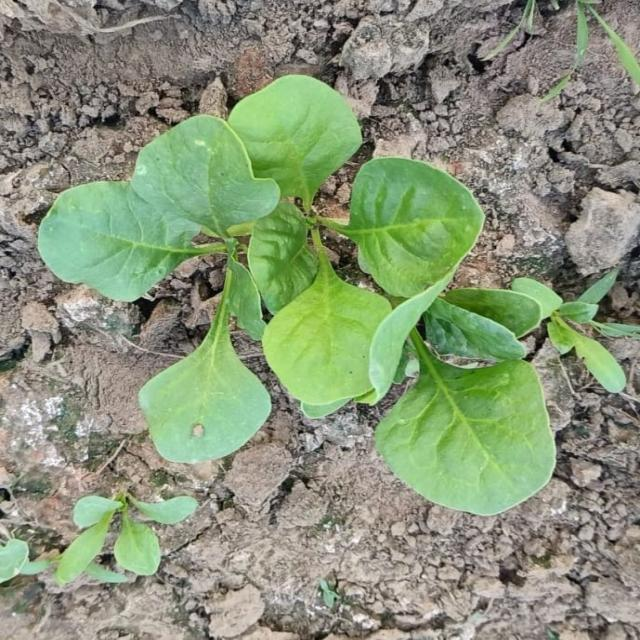plant: (39, 75, 556, 516)
